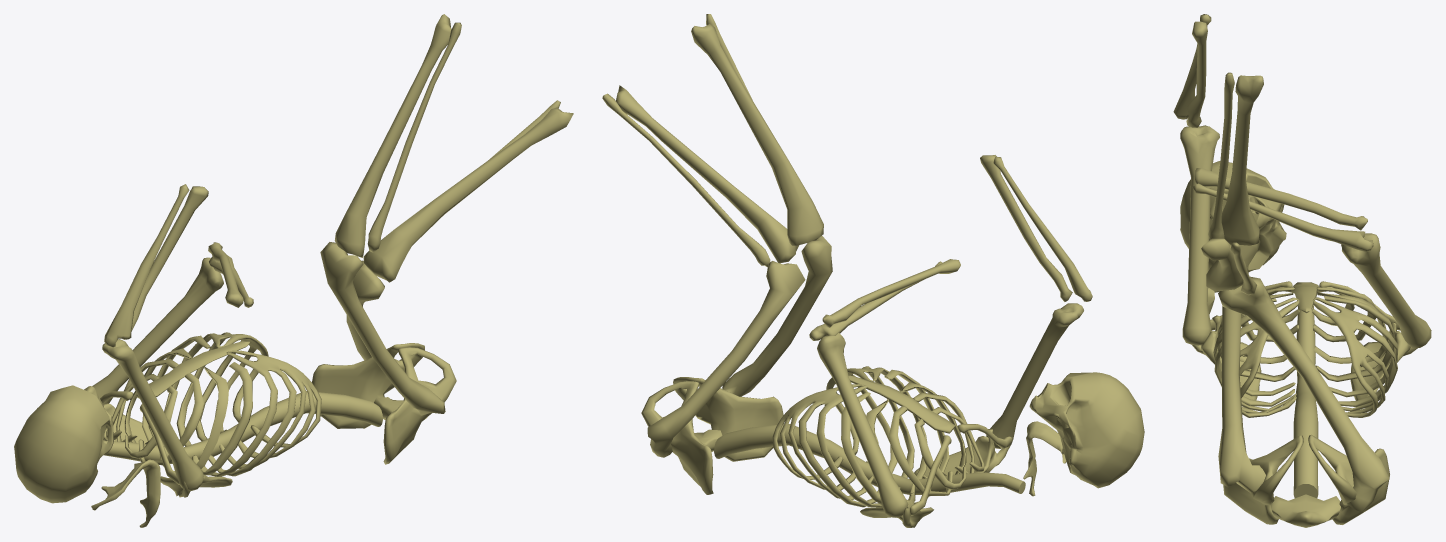
The model's file is calavera3.fbx.
3 renders of one model, left to right at view 1: azimuth 30°, elevation 25°; view 2: azimuth 150°, elevation 25°; view 3: azimuth 270°, elevation 25°, orthographic. The views are drawn at different scales.
Parts seen in each view (by area): view 1: calavera3; view 2: calavera3; view 3: calavera3.
Part boxes in pixels (x1=…): calavera3: x1=14, y1=14, x2=573, y2=527; calavera3: x1=602, y1=14, x2=1144, y2=527; calavera3: x1=1173, y1=14, x2=1431, y2=527.
Bounding box in the file's own units: 65.88 × 50.09 × 24.69.
